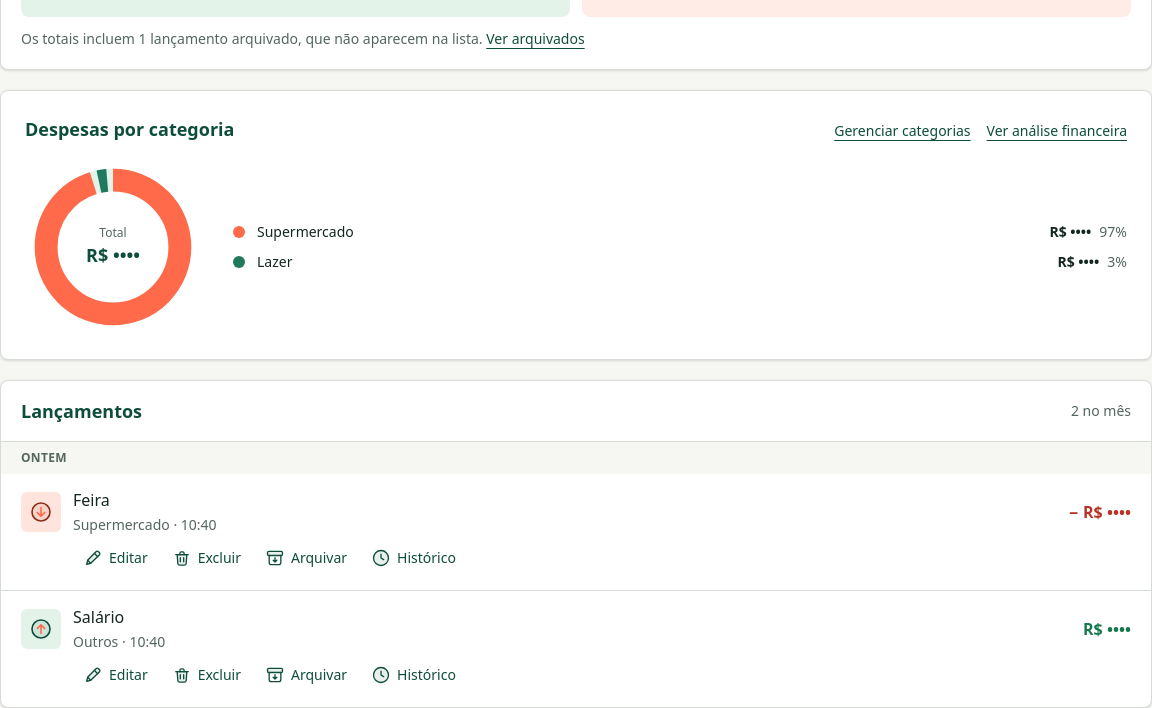
Scenario: com os valores escondidos nada vaza › Home: o histórico da linha (de → para) também fica oculto
The image size is (1152, 708).
(page scrolled)
Click the button with aria-label "Histórico de Feira" at (414, 558), box [361,540,466,576]
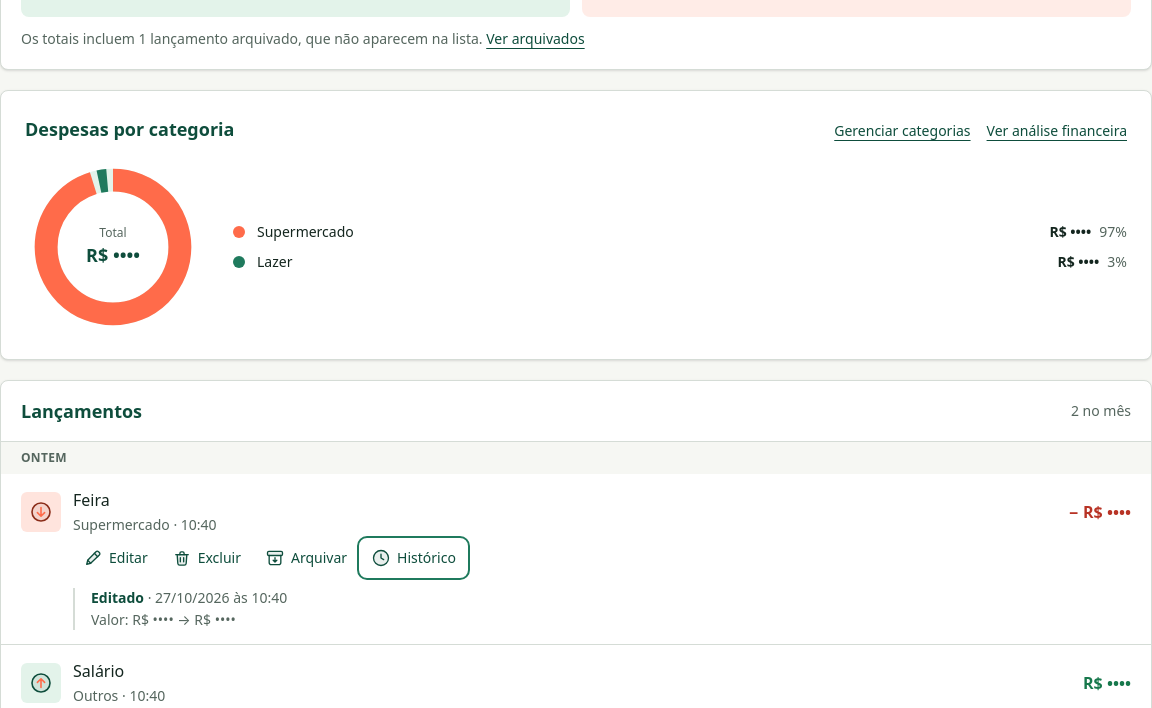
Expected: the list item "Valor: R$ •••• → R$ ••••" is shown, [91,610,236,629]
